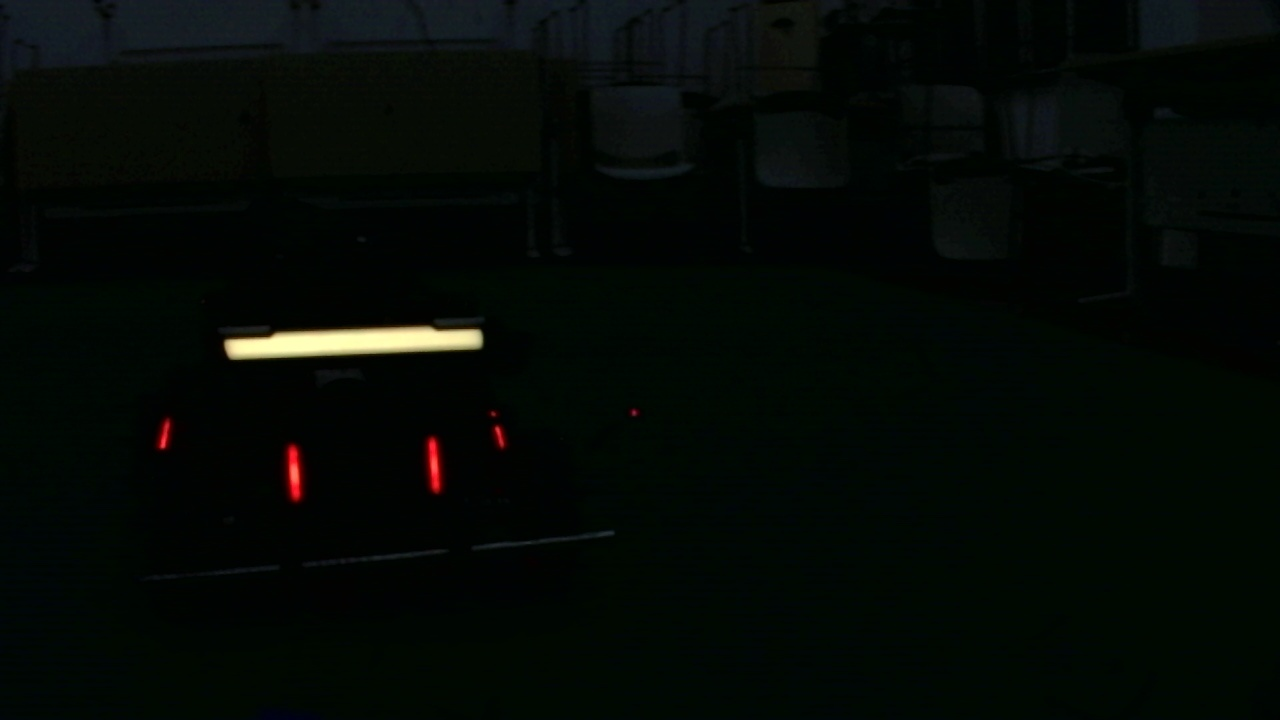lamp: (286, 437, 305, 506), (420, 435, 440, 493), (494, 427, 507, 454), (160, 417, 170, 451)
notpair1: (158, 418, 304, 498), (426, 411, 510, 501)
pair1: (283, 436, 442, 501)
